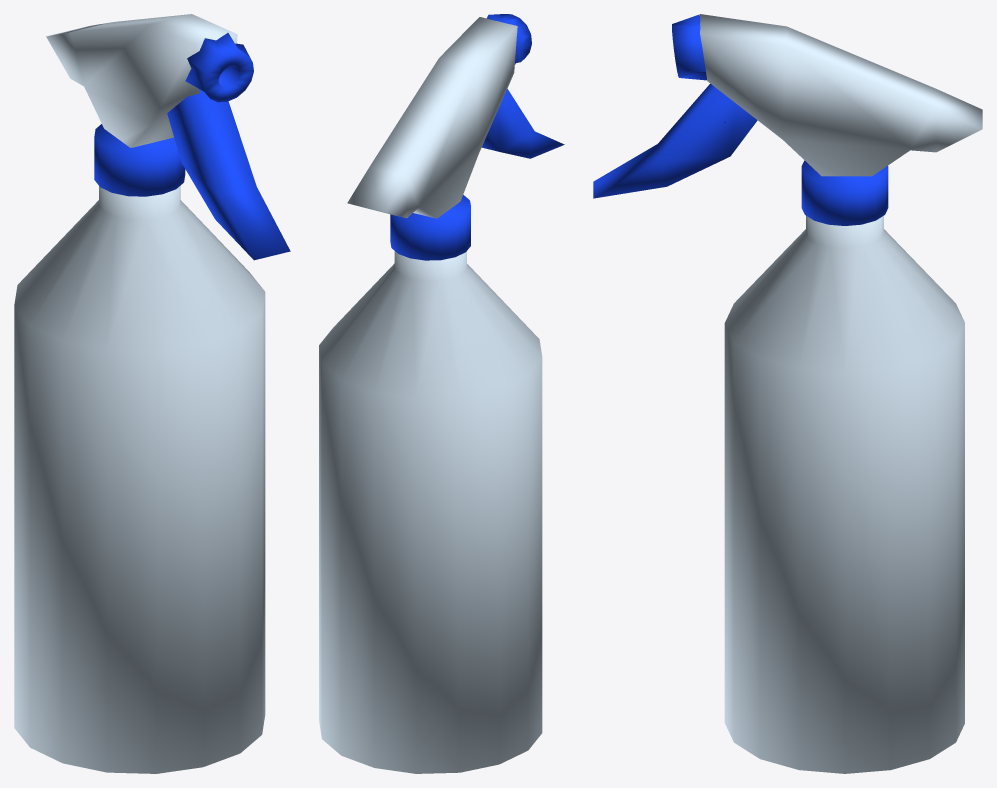
The model's file is sprayer.glb.
3 views of the same model, side by side, from view 1: azimuth 30°, elevation 25°; view 2: azimuth 150°, elevation 25°; view 3: azimuth 270°, elevation 25° (orthographic). The views are drawn at different scales.
Parts seen in each view (by area): view 1: body, head, handle, connector, cap; view 2: body, head, connector, handle, cap; view 3: body, head, handle, connector, cap.
Part boxes in pixels (bbox=[...]): body: bbox=[14, 186, 265, 773]; head: bbox=[46, 14, 237, 147]; handle: bbox=[167, 93, 290, 260]; connector: bbox=[94, 124, 185, 196]; cap: bbox=[185, 33, 253, 102]; body: bbox=[319, 251, 542, 773]; head: bbox=[347, 17, 517, 218]; connector: bbox=[390, 195, 470, 260]; handle: bbox=[481, 89, 564, 158]; cap: bbox=[487, 14, 531, 64]; body: bbox=[724, 215, 964, 773]; head: bbox=[700, 14, 982, 176]; handle: bbox=[593, 83, 757, 198]; connector: bbox=[801, 160, 888, 225]; cap: bbox=[672, 14, 706, 80].
Bounding box in the file's own units: 0.1595 × 0.5151 × 0.2582.
1 material, 1 textured.
